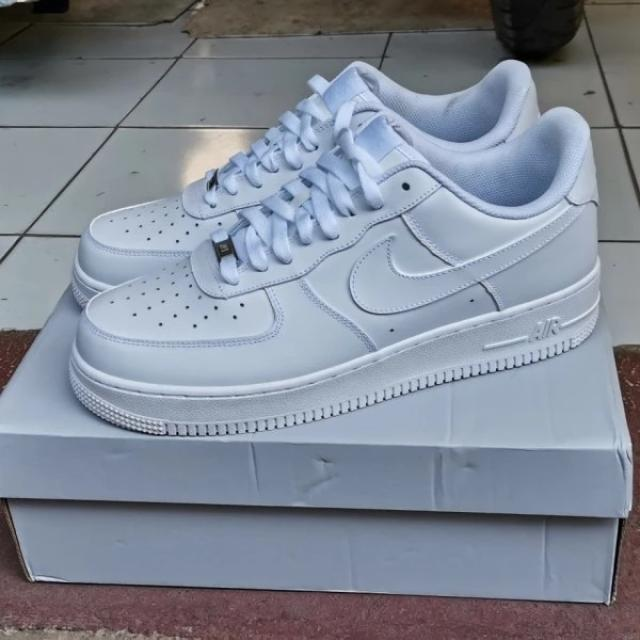nike fake air force: (63, 107, 598, 440), (70, 59, 542, 310)
